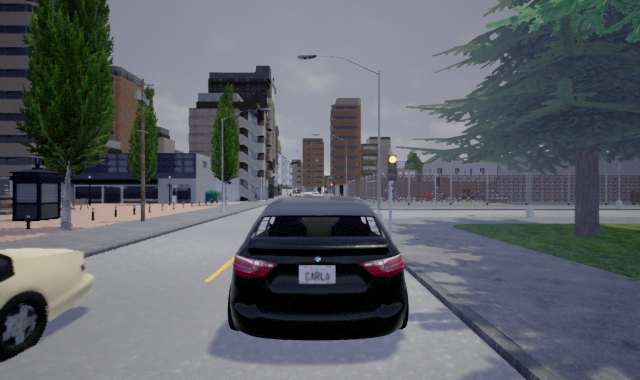traffic_light: (386, 154, 396, 181)
vehicle: (228, 199, 409, 340), (1, 246, 97, 357)
